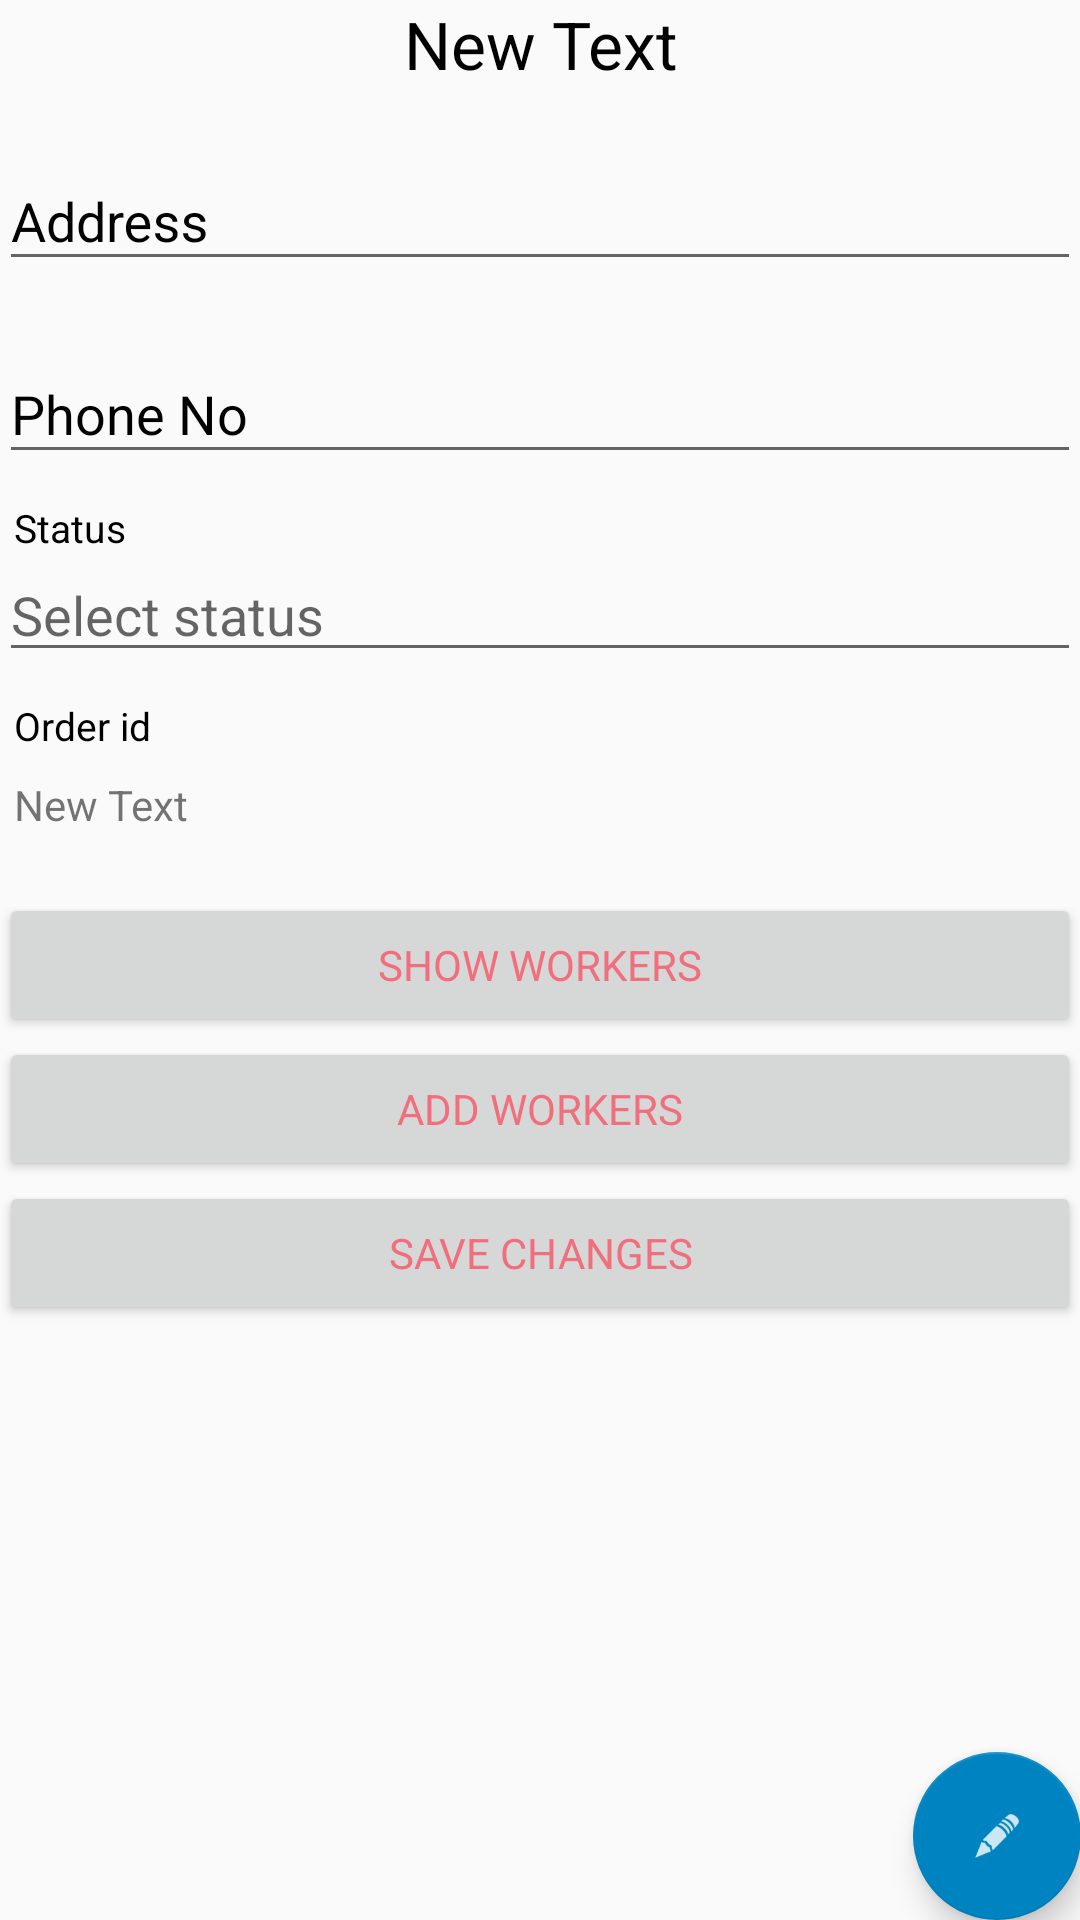

Point at icon controls on the screen. Image size 1080 x 1920, points as point (x, y).
edit: point (996, 1836)
